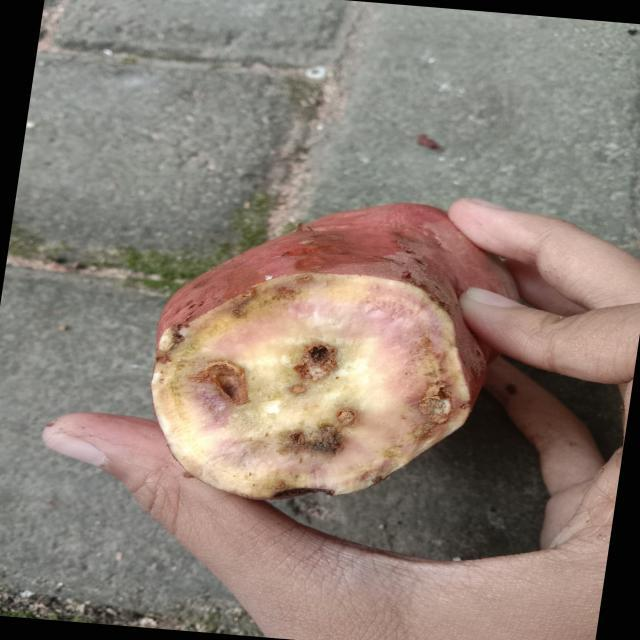Sick Sweet Potato_Tuber Rot: (152, 274, 472, 499)
